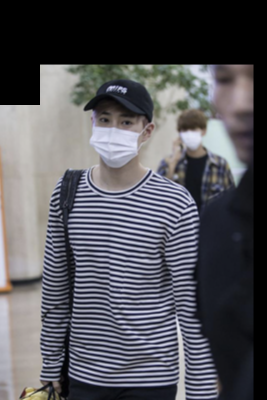with_mask: (92, 109, 144, 168), (180, 126, 201, 152)
without_mask: (212, 66, 253, 161)
